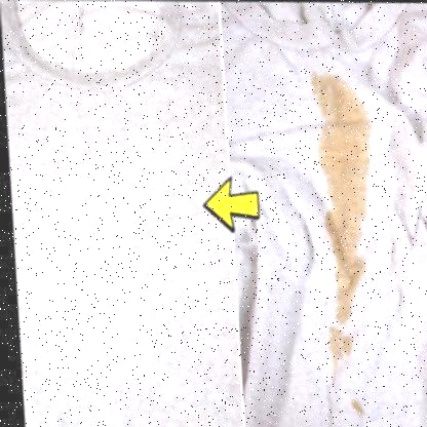coffee: (320, 85, 368, 241), (338, 249, 351, 310)
